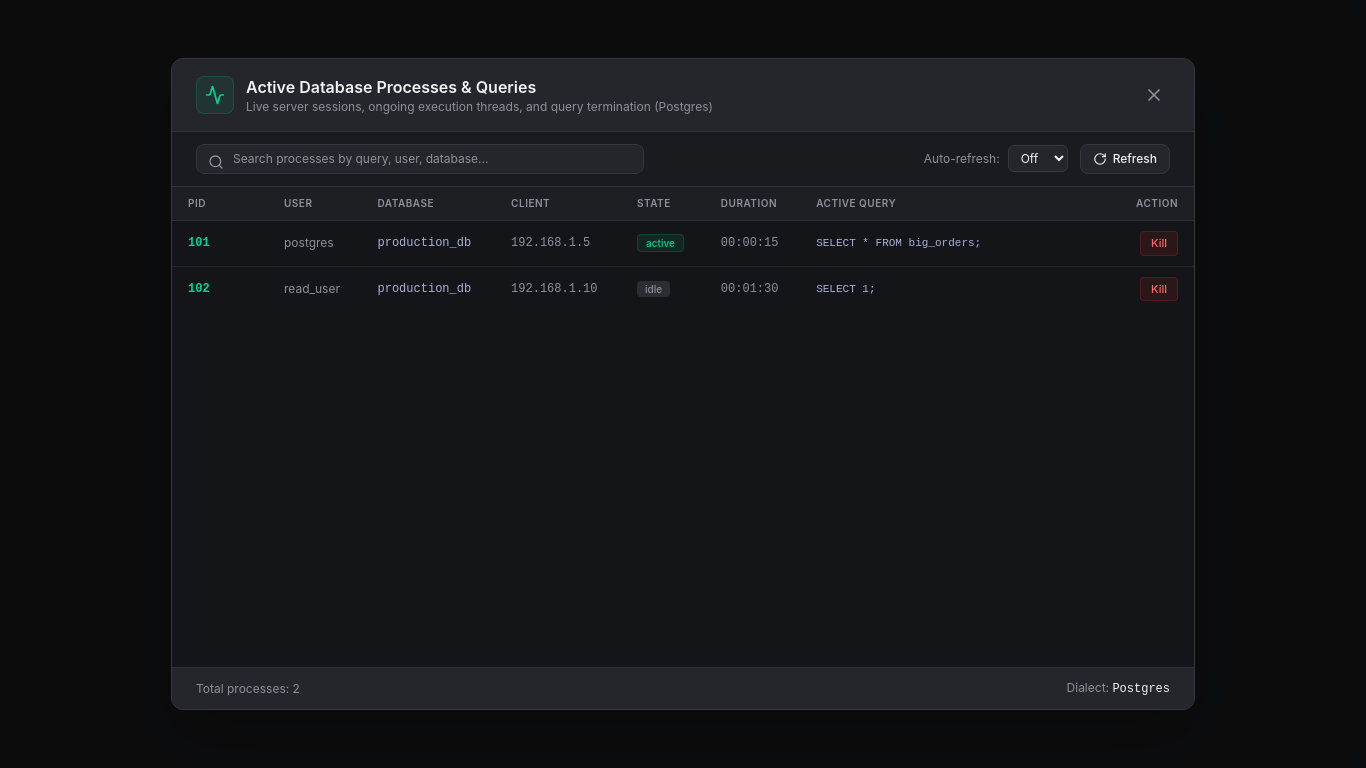
ProcessListModal component › filters processes dynamically via search input
The image size is (1366, 768).
Check: the text "101" is shown, box x1=172 y1=220 x2=268 y2=266
In the field with placeholder "Search processes by query, user, database...": (420, 159) x1=196 y1=144 x2=644 y2=174, type "big_orders"
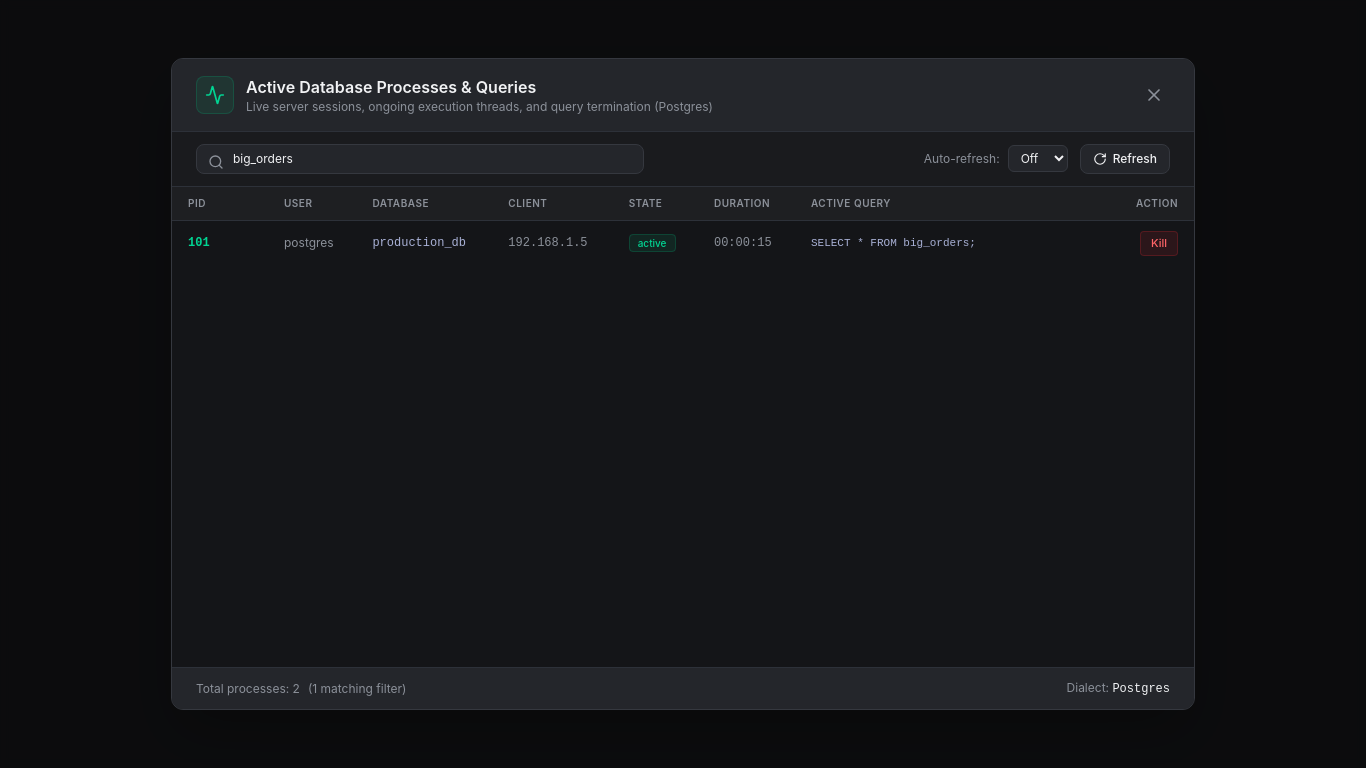
Check: the text "101" is shown, box x1=172 y1=220 x2=268 y2=266
Check: the text "102" is gone
